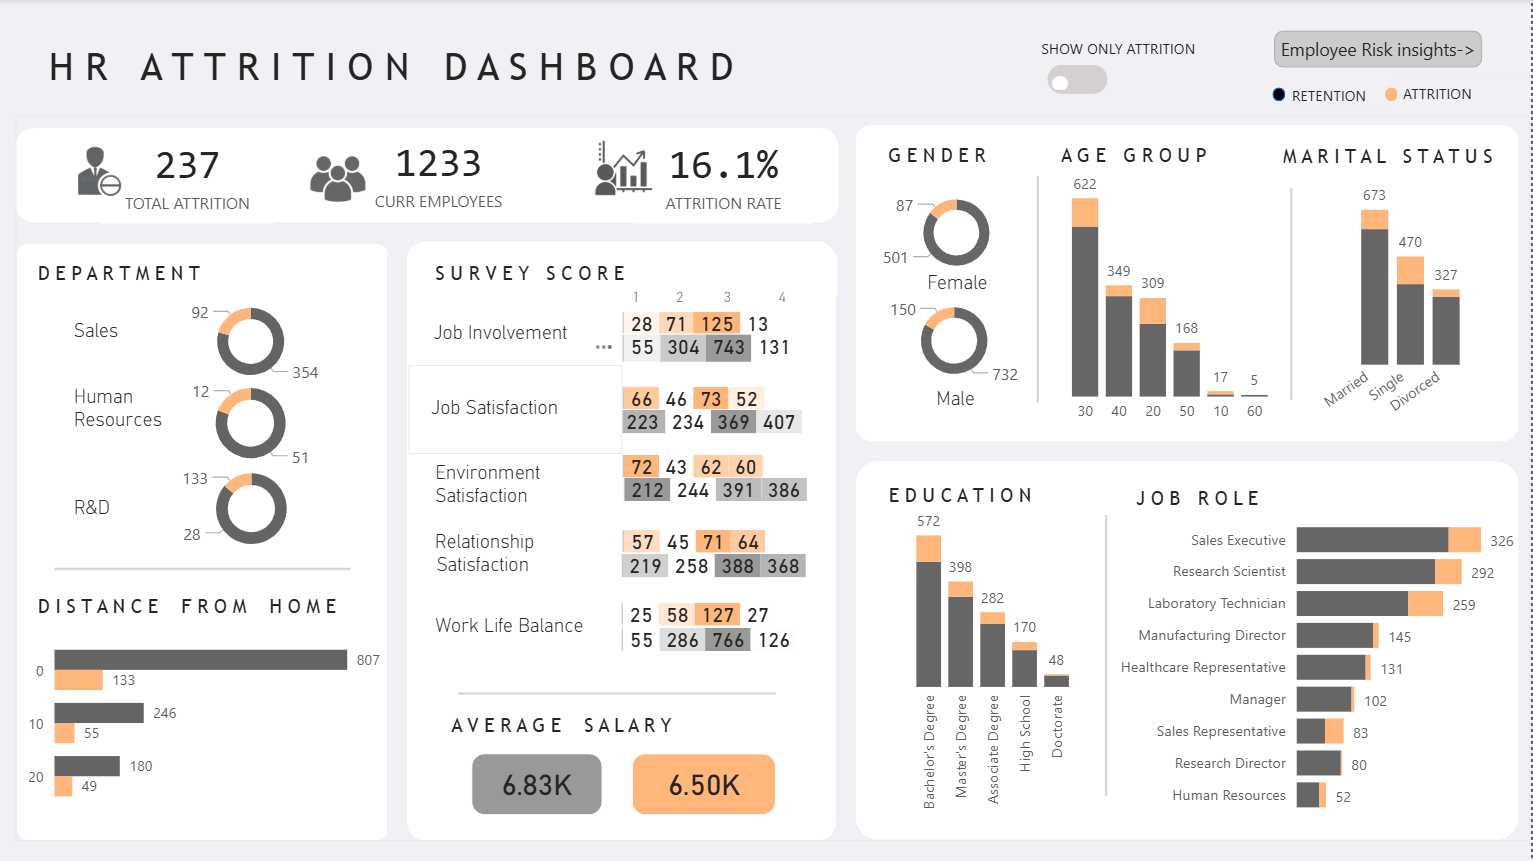

The page's visual inventory and layout, read from the dashboard file:
{"tool":"powerbi","page":{"name":" Overview","canvas":[1280,720],"ordinal":0},"visuals":[{"type":"group","id":"g1","title":"Group 1","box":[1064,63.9,215.5,30.1],"z":0},{"type":"shape","box":[1064,74,10.7,11.5],"z":0,"group":"g1"},{"type":"shape","box":[341.6,203.4,358.3,499.9],"z":0,"group":"g2"},{"type":"donutChart","fields":{"Category":["HR_Data.Attrition"],"Y":["CountNonNull(HR_Data.Employee_No)"]},"box":[147.7,243.1,126.5,85.2],"z":0,"group":"g3"},{"type":"textbox","box":[0,0,807.2,125.9],"z":1000},{"type":"textbox","box":[1075,65.1,86.7,28.9],"z":1000,"group":"g1"},{"type":"shape","box":[15.9,204.7,309.5,498.7],"z":1000,"group":"g2"},{"type":"donutChart","fields":{"Category":["HR_Data.Attrition"],"Y":["CountNonNull(HR_Data.Employee_No)"]},"box":[133.9,310.8,154.1,86.5],"z":1000,"group":"g3"},{"type":"textbox","box":[866.4,25.8,149.8,32.3],"z":2000},{"type":"shape","box":[1157.7,74,10.7,11.5],"z":2000,"group":"g1"},{"type":"donutChart","fields":{"Category":["HR_Data.Attrition"],"Y":["CountNonNull(HR_Data.Employee_No)"]},"box":[128.9,382.2,165.4,86.5],"z":2000,"group":"g3"},{"type":"shape","box":[715.3,386.7,553.9,316.3],"z":2000,"group":"g2"},{"type":"textbox","box":[1167.9,63.9,111.6,29.6],"z":3000,"group":"g1"},{"type":"group","id":"g2","title":"dashboard a","box":[14.2,98.1,1265.4,605.3],"z":3000},{"type":"shape","box":[14.2,107.7,687.4,78.7],"z":3000,"group":"g2"},{"type":"textbox","box":[58.2,260.8,96.4,195.4],"z":3000,"group":"g3"},{"type":"shape","box":[715.8,106.2,553.8,264.4],"z":4000,"group":"g2"},{"type":"bookmarkNavigator","box":[875.4,55.5,50.4,24.5],"z":5000},{"type":"card","fields":{"Values":["HR_Data.Attrition__Rate"]},"box":[85.4,110.7,143.8,77.2],"z":5000,"group":"g2"},{"type":"pageNavigator","box":[1064.5,25.7,174.1,31.8],"z":6000},{"type":"card","fields":{"Values":["HR_Data.CURR EMPLOYEES"]},"box":[292.8,109.2,149.9,77.2],"z":6000,"group":"g2"},{"type":"card","fields":{"Values":["HR_Data.ATTRITION RATE"]},"box":[530.5,110.7,149.9,77.2],"z":7000,"group":"g2"},{"type":"image","box":[486.6,109.2,71.2,68.1],"z":8000,"group":"g2"},{"type":"image","box":[35.4,103.2,98.4,92.4],"z":9000,"group":"g2"},{"type":"image","box":[248.9,113.8,69.7,72.7],"z":10000,"group":"g2"},{"type":"textbox","box":[28.4,214.7,265.6,35.1],"z":11000,"group":"g2"},{"type":"group","id":"g3","title":"Group 2","box":[58.2,243.1,236.8,223.1],"z":12000,"group":"g2"},{"type":"shape","box":[47.2,469.7,247.2,12.4],"z":13000,"group":"g2"},{"type":"textbox","box":[27.8,492.3,271,42.4],"z":14000,"group":"g2"},{"type":"clusteredBarChart","fields":{"Category":["HR_Data.DistanceFromHome (bins)"],"Series":["HR_Data.Attrition"],"Y":["CountNonNull(HR_Data.Employee_No)"]},"box":[15.9,512.9,310.7,177.9],"z":15000,"group":"g2"},{"type":"pivotTable","fields":{"Values":["CountNonNull(HR_Data.Employee_No)"],"Rows":["HR_Data.Attrition"],"Columns":["HR_Data.JobInvolvement"]},"box":[452.7,234.7,234.3,72.7],"z":16000,"group":"g2"},{"type":"pivotTable","fields":{"Values":["CountNonNull(HR_Data.Employee_No)"],"Rows":["HR_Data.Attrition"],"Columns":["HR_Data.JobSatisfaction"]},"box":[453.3,297,204.4,57.5],"z":17000,"group":"g2"},{"type":"pivotTable","fields":{"Values":["CountNonNull(HR_Data.Employee_No)"],"Rows":["HR_Data.Attrition"],"Columns":["HR_Data.RelationshipSatisfaction"]},"box":[453.3,416.6,215,57.5],"z":18000,"group":"g2"},{"type":"pivotTable","fields":{"Values":["CountNonNull(HR_Data.Employee_No)"],"Rows":["HR_Data.Attrition"],"Columns":["HR_Data.WorkLifeBalance"]},"box":[451.8,477.2,266.5,56],"z":19000,"group":"g2"},{"type":"textbox","box":[423,354.5,162,50],"z":20000,"group":"g2"},{"type":"pivotTable","fields":{"Values":["CountNonNull(HR_Data.Employee_No)"],"Rows":["HR_Data.Attrition"],"Columns":["HR_Data.RelationshipSatisfaction"]},"box":[402.6,410.1,285.7,87.7],"z":21000,"group":"g2"},{"type":"pivotTable","fields":{"Values":["CountNonNull(HR_Data.Employee_No)"],"Rows":["HR_Data.Attrition"],"Columns":["HR_Data.EnvironmentSatisfaction"]},"box":[403.7,346.7,306.8,85.8],"z":22000,"group":"g2"},{"type":"textbox","box":[359.4,380.3,162,50],"z":23000,"group":"g2"},{"type":"pivotTable","fields":{"Values":["CountNonNull(HR_Data.Employee_No)"],"Rows":["HR_Data.Attrition"],"Columns":["HR_Data.EnvironmentSatisfaction"]},"box":[453.3,354,245.3,57.5],"z":24000,"group":"g2"},{"type":"pivotTable","fields":{"Values":["CountNonNull(HR_Data.Employee_No)"],"Rows":["HR_Data.Attrition"],"Columns":["HR_Data.JobSatisfaction"]},"box":[399.8,289.6,291.9,82.7],"z":25000,"group":"g2"},{"type":"pivotTable","fields":{"Values":["CountNonNull(HR_Data.Employee_No)"],"Rows":["HR_Data.Attrition"],"Columns":["HR_Data.JobInvolvement"]},"box":[398.6,223.2,290.7,91.5],"z":26000,"group":"g2"},{"type":"textbox","box":[359.4,215.2,340.7,34.8],"z":27000,"group":"g2"},{"type":"textbox","box":[344.3,244,162,53],"z":28000,"group":"g2"},{"type":"textbox","box":[344.3,437.8,162,54.5],"z":29000,"group":"g2"},{"type":"pivotTable","fields":{"Values":["CountNonNull(HR_Data.Employee_No)"],"Rows":["HR_Data.Attrition"],"Columns":["HR_Data.WorkLifeBalance"]},"box":[402.6,471.5,295.7,82.7],"z":30000,"group":"g2"},{"type":"textbox","box":[342.8,306.1,178.7,74.2],"z":31000,"group":"g2"},{"type":"textbox","box":[359.4,507.5,145.4,48.5],"z":32000,"group":"g2"},{"type":"shape","box":[384.2,573.1,265.6,15],"z":33000,"group":"g2"},{"type":"textbox","box":[504.8,233.4,225.6,28.8],"z":34000,"group":"g2"},{"type":"textbox","box":[945.6,402.4,196.7,32.6],"z":35000,"group":"g2"},{"type":"barChart","fields":{"Category":["HR_Data.JobRole"],"Y":["CountNonNull(HR_Data.Employee_No)"],"Series":["HR_Data.Attrition"]},"box":[920.4,418.1,351.2,273.7],"z":36000,"group":"g2"},{"type":"textbox","box":[733.4,98.6,115.1,57.5],"z":37000,"group":"g2"},{"type":"donutChart","fields":{"Y":["CountNonNull(HR_Data.Employee_No)"],"Category":["HR_Data.Attrition"]},"box":[719.6,154.8,160.4,81.4],"z":38000,"group":"g2"},{"type":"textbox","box":[771,220.6,83.3,42.4],"z":39000,"group":"g2"},{"type":"donutChart","fields":{"Y":["CountNonNull(HR_Data.Employee_No)"],"Category":["HR_Data.Attrition"]},"box":[732.1,244.1,131.6,83.9],"z":40000,"group":"g2"},{"type":"textbox","box":[778.5,299.8,96.5,56.4],"z":41000,"group":"g2"},{"type":"shape","box":[859.9,148.8,16.3,189.2],"z":42000,"group":"g2"},{"type":"textbox","box":[882.7,98.1,141.7,52.9],"z":43000,"group":"g2"},{"type":"columnChart","fields":{"Category":["HR_Data.Age (bins)"],"Y":["CountNonNull(HR_Data.Employee_No)"],"Series":["HR_Data.Attrition"]},"box":[880.2,128.3,196.7,234.3],"z":44000,"group":"g2"},{"type":"shape","box":[1072.9,158.9,13.8,176.7],"z":45000,"group":"g2"},{"type":"columnChart","fields":{"Category":["HR_Data.MaritalStatus"],"Y":["CountNonNull(HR_Data.Employee_No)"],"Series":["HR_Data.Attrition"]},"box":[1098.4,140.6,140.3,226.8],"z":47000,"group":"g2"},{"type":"textbox","box":[719.6,400.1,214.2,37.6],"z":48000,"group":"g2"},{"type":"columnChart","fields":{"Category":["HR_Data.Education"],"Y":["CountNonNull(HR_Data.Employee_No)"],"Series":["HR_Data.Attrition"]},"box":[749.8,412.9,160.5,274.1],"z":49000,"group":"g2"},{"type":"shape","box":[917.9,431,15.1,234.7],"z":50000,"group":"g2"},{"type":"textbox","box":[359.2,574.3,283.2,51.4],"z":51000,"group":"g2"},{"type":"card","fields":{"Values":["Avg(HR_Data.MonthlyIncome)"]},"box":[395.5,630.7,109,51.4],"z":52000,"group":"g2"},{"type":"card","fields":{"Values":["Avg(HR_Data.MonthlyIncome)"]},"box":[529.6,630.7,120.3,51.4],"z":53000,"group":"g2"},{"type":"textbox","box":[1067.9,117,211.7,34],"z":53500,"group":"g2"}]}

Visuals, with their boxes in screenshot pixels (x1, y1, x2, y2), scaled from the page's 1280x720 canvas onto the 1533x861 screenshot:
"Group 1" group: bbox=(1274, 76, 1532, 112)
shape: bbox=(1274, 88, 1287, 102)
shape: bbox=(409, 243, 838, 841)
donutChart - HR_Data.Attrition x CountNonNull(HR_Data.Employee_No): bbox=(177, 291, 328, 393)
textbox: bbox=(0, 0, 967, 151)
textbox: bbox=(1287, 78, 1391, 112)
shape: bbox=(19, 245, 390, 841)
donutChart - HR_Data.Attrition x CountNonNull(HR_Data.Employee_No): bbox=(160, 372, 345, 475)
textbox: bbox=(1038, 31, 1217, 69)
shape: bbox=(1387, 88, 1399, 102)
donutChart - HR_Data.Attrition x CountNonNull(HR_Data.Employee_No): bbox=(154, 457, 352, 560)
shape: bbox=(857, 462, 1520, 841)
textbox: bbox=(1399, 76, 1532, 112)
"dashboard a" group: bbox=(17, 117, 1532, 841)
shape: bbox=(17, 129, 840, 223)
textbox: bbox=(70, 312, 185, 546)
shape: bbox=(857, 127, 1521, 443)
bookmarkNavigator: bbox=(1048, 66, 1109, 96)
card - HR_Data.Attrition__Rate: bbox=(102, 132, 275, 225)
pageNavigator: bbox=(1275, 31, 1483, 69)
card - HR_Data.CURR EMPLOYEES: bbox=(351, 131, 530, 223)
card - HR_Data.ATTRITION RATE: bbox=(635, 132, 815, 225)
image: bbox=(583, 131, 668, 212)
image: bbox=(42, 123, 160, 234)
image: bbox=(298, 136, 382, 223)
textbox: bbox=(34, 257, 352, 299)
"Group 2" group: bbox=(70, 291, 353, 557)
shape: bbox=(57, 562, 353, 577)
textbox: bbox=(33, 589, 358, 639)
clusteredBarChart - HR_Data.DistanceFromHome (bins) x HR_Data.Attrition: bbox=(19, 613, 391, 826)
pivotTable - CountNonNull(HR_Data.Employee_No) x HR_Data.Attrition: bbox=(542, 281, 823, 368)
pivotTable - CountNonNull(HR_Data.Employee_No) x HR_Data.Attrition: bbox=(543, 355, 788, 424)
pivotTable - CountNonNull(HR_Data.Employee_No) x HR_Data.Attrition: bbox=(543, 498, 800, 567)
pivotTable - CountNonNull(HR_Data.Employee_No) x HR_Data.Attrition: bbox=(541, 571, 860, 638)
textbox: bbox=(507, 424, 701, 484)
pivotTable - CountNonNull(HR_Data.Employee_No) x HR_Data.Attrition: bbox=(482, 490, 824, 595)
pivotTable - CountNonNull(HR_Data.Employee_No) x HR_Data.Attrition: bbox=(483, 415, 851, 517)
textbox: bbox=(430, 455, 624, 515)
pivotTable - CountNonNull(HR_Data.Employee_No) x HR_Data.Attrition: bbox=(543, 423, 837, 492)
pivotTable - CountNonNull(HR_Data.Employee_No) x HR_Data.Attrition: bbox=(479, 346, 828, 445)
pivotTable - CountNonNull(HR_Data.Employee_No) x HR_Data.Attrition: bbox=(477, 267, 826, 376)
textbox: bbox=(430, 257, 838, 299)
textbox: bbox=(412, 292, 606, 355)
textbox: bbox=(412, 524, 606, 589)
pivotTable - CountNonNull(HR_Data.Employee_No) x HR_Data.Attrition: bbox=(482, 564, 836, 663)
textbox: bbox=(411, 366, 625, 455)
textbox: bbox=(430, 607, 605, 665)
shape: bbox=(460, 685, 778, 703)
textbox: bbox=(605, 279, 875, 314)
textbox: bbox=(1133, 481, 1368, 520)
barChart - HR_Data.JobRole x CountNonNull(HR_Data.Employee_No): bbox=(1102, 500, 1523, 827)
textbox: bbox=(878, 118, 1016, 187)
donutChart - CountNonNull(HR_Data.Employee_No) x HR_Data.Attrition: bbox=(862, 185, 1054, 282)
textbox: bbox=(923, 264, 1023, 315)
donutChart - CountNonNull(HR_Data.Employee_No) x HR_Data.Attrition: bbox=(877, 292, 1034, 392)
textbox: bbox=(932, 359, 1048, 426)
shape: bbox=(1030, 178, 1049, 404)
textbox: bbox=(1057, 117, 1227, 181)
columnChart - HR_Data.Age (bins) x CountNonNull(HR_Data.Employee_No): bbox=(1054, 153, 1290, 434)
shape: bbox=(1285, 190, 1301, 401)
columnChart - HR_Data.MaritalStatus x CountNonNull(HR_Data.Employee_No): bbox=(1316, 168, 1484, 439)
textbox: bbox=(862, 478, 1118, 523)
columnChart - HR_Data.Education x CountNonNull(HR_Data.Employee_No): bbox=(898, 494, 1090, 822)
shape: bbox=(1099, 515, 1117, 796)
textbox: bbox=(430, 687, 769, 748)
card - Avg(HR_Data.MonthlyIncome): bbox=(474, 754, 604, 816)
card - Avg(HR_Data.MonthlyIncome): bbox=(634, 754, 778, 816)
textbox: bbox=(1279, 140, 1532, 181)
